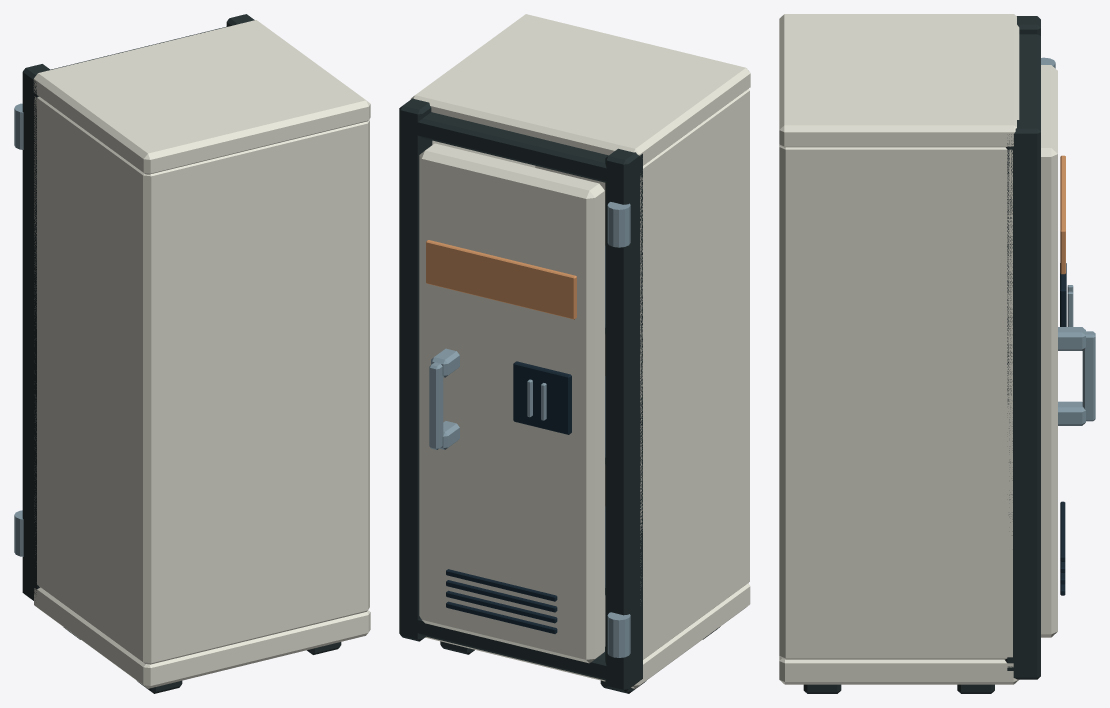
Rendered from maritime_signal_locker.glb.
The picture shows the model from 3 angles, left to right: view 1: azimuth 30°, elevation 25°; view 2: azimuth 150°, elevation 25°; view 3: azimuth 270°, elevation 25°; orthographic projection. The views are drawn at different scales.
Parts seen in each view (by area): view 1: body_back_wall, body_side_wall (×2), body_roof, body_floor, front_side_frame; view 2: moving_door, body_side_wall, front_side_frame (×2), body_roof, front_cross_frame (×2), moving_signal_band, body_back_wall, moving_speaker, moving_signal_slot (×4), body_floor, hinge_pin (×2), moving_handle_grip; view 3: body_side_wall, body_roof, front_side_frame, moving_door, body_floor, body_back_wall, front_cross_frame, moving_handle_mount (×2), moving_handle_grip, moving_signal_band.
Boxes of the visible parts, <box> form: body_back_wall: <box>134,121,367,662</box>; body_side_wall (×2): <box>34,96,369,664</box>; body_roof: <box>33,20,370,174</box>; body_floor: <box>34,587,370,688</box>; front_side_frame: <box>22,64,50,600</box>; moving_door: <box>419,143,604,663</box>; body_side_wall: <box>640,88,749,659</box>; front_side_frame (×2): <box>399,98,642,691</box>; body_roof: <box>410,14,750,165</box>; front_cross_frame (×2): <box>399,112,642,683</box>; moving_signal_band: <box>426,240,576,319</box>; body_back_wall: <box>535,90,749,587</box>; moving_speaker: <box>513,361,571,434</box>; moving_signal_slot (×4): <box>446,569,557,633</box>; body_floor: <box>425,583,750,688</box>; hinge_pin (×2): <box>607,202,630,657</box>; moving_handle_grip: <box>429,362,443,449</box>; body_side_wall: <box>779,145,1012,659</box>; body_roof: <box>779,14,1019,147</box>; front_side_frame: <box>1006,120,1040,679</box>; moving_door: <box>1041,65,1057,637</box>; body_floor: <box>779,656,1018,684</box>; body_back_wall: <box>779,145,804,659</box>; front_cross_frame: <box>1007,34,1040,155</box>; moving_handle_mount (×2): <box>1058,327,1085,425</box>; moving_handle_grip: <box>1082,331,1095,421</box>; moving_signal_band: <box>1060,155,1065,274</box>.
Bounding box in the file's own units: 0.742 × 1.7 × 0.8435.
